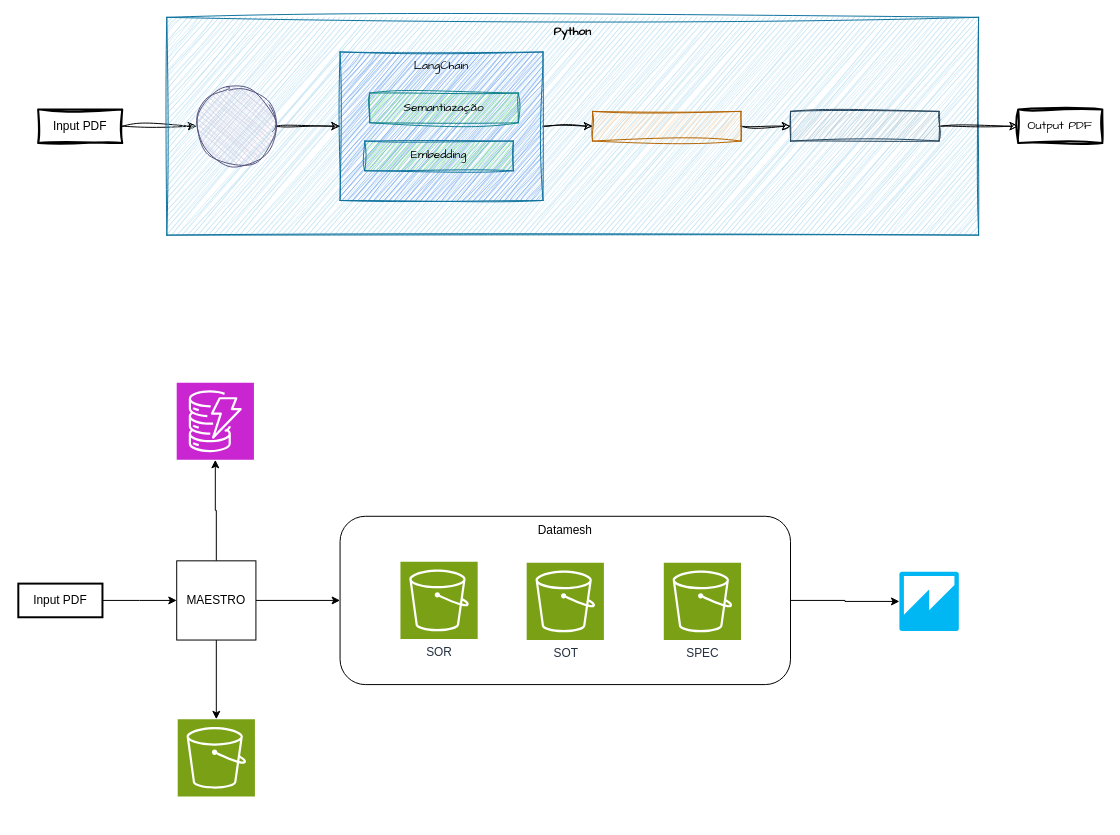
Some shapes in this 1120 by 835 pixel diagram are drawn without their labels. The centre of each missing label's shape, as x and y in pixels:
"DynamoDB" goes at pixel 215 421.
"K-means" goes at pixel 666 125.
"OpenAI" goes at pixel 864 125.
"Quicksight" goes at pixel 928 601.
"S3 Save PDFs" goes at pixel 216 757.
"Streamlit" goes at pixel 236 126.
